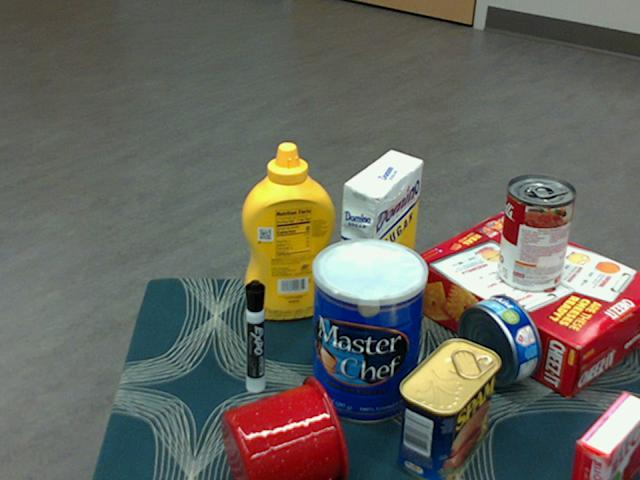cracker_box: (407, 214, 639, 394)
gelatin_box: (568, 391, 639, 479)
large_marker: (243, 278, 263, 393)
master_chef_can: (311, 238, 429, 425)
mug: (220, 376, 349, 479)
mustard_bottle: (240, 142, 334, 320)
potted_meat_can: (397, 339, 501, 479)
sugar_box: (335, 151, 423, 340)
tomato_soup_can: (497, 176, 575, 294)
tuna_fish_can: (458, 293, 542, 386)
